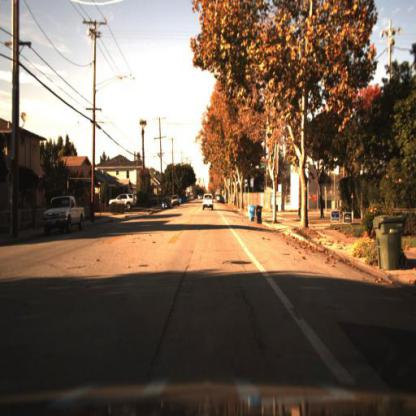car: (42, 195, 87, 239), (106, 192, 136, 210), (201, 191, 215, 213), (160, 196, 173, 214)
